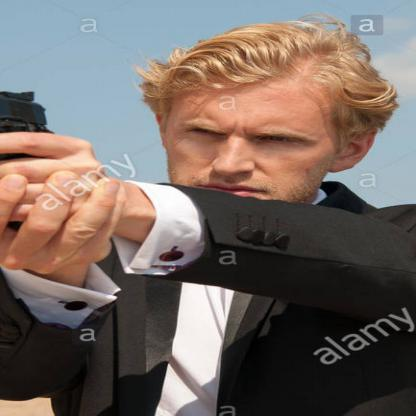gun: (0, 65, 73, 170)
